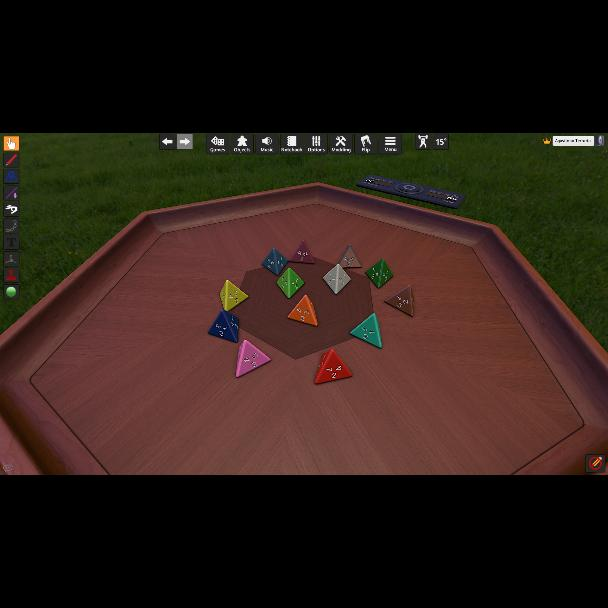d4: (236, 339, 272, 377), (314, 349, 350, 383), (349, 314, 381, 349), (209, 309, 239, 343), (220, 280, 248, 313), (276, 267, 304, 299), (288, 295, 316, 327), (385, 286, 413, 316), (366, 259, 392, 289), (322, 264, 348, 294), (262, 249, 286, 277), (290, 240, 314, 264), (338, 244, 360, 270)
